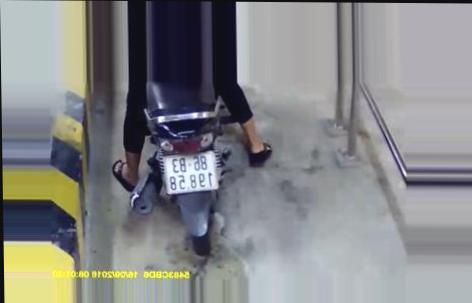License_Plate: (158, 146, 224, 199)
